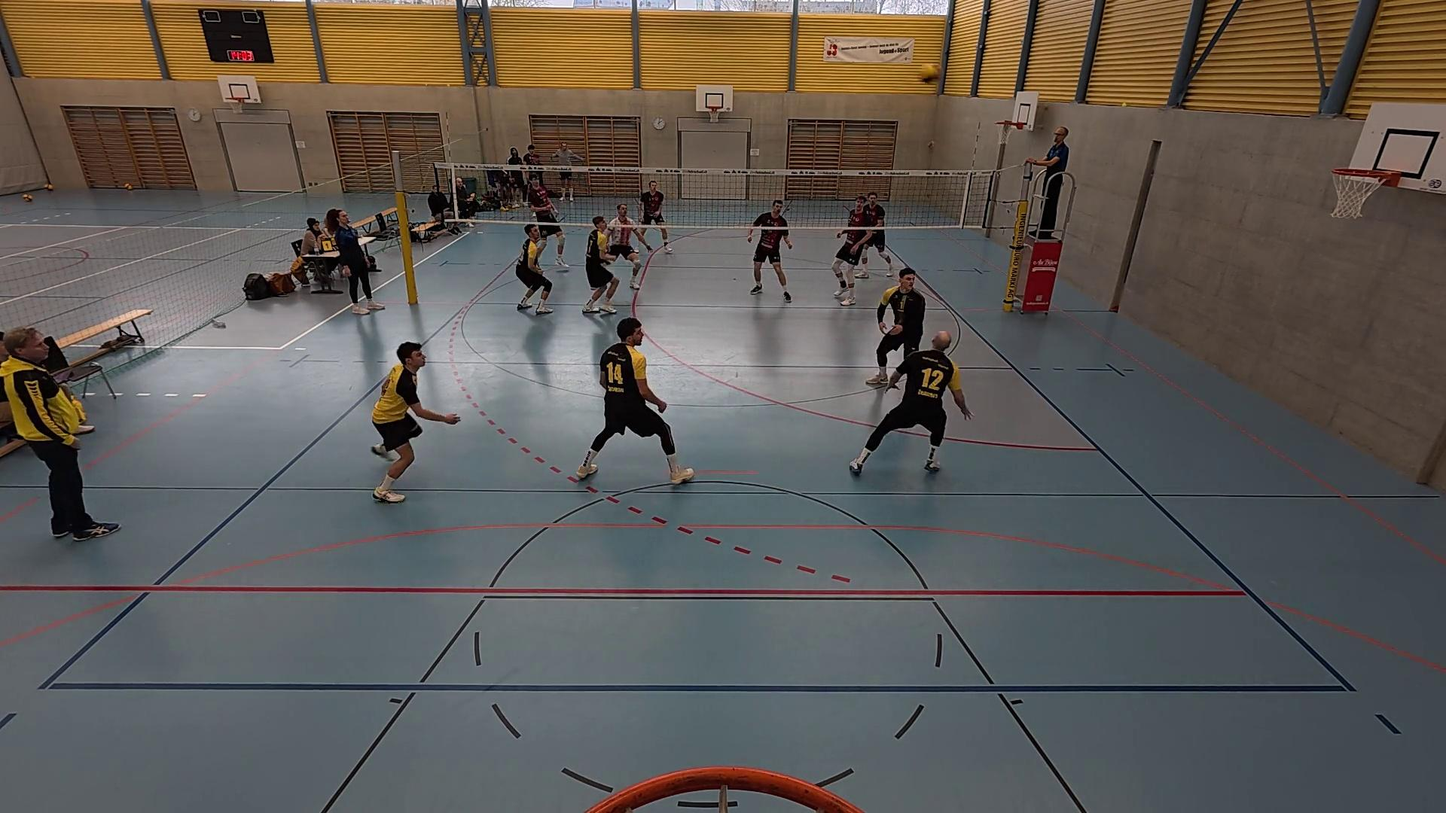Player: (570, 317, 694, 486), (850, 330, 972, 474), (370, 341, 460, 501), (865, 268, 927, 387), (521, 168, 572, 271), (747, 199, 792, 300), (580, 214, 620, 316), (512, 224, 556, 315), (831, 207, 871, 306), (609, 204, 648, 291), (859, 193, 894, 276), (637, 178, 670, 254)
ball: (932, 327, 955, 351)
